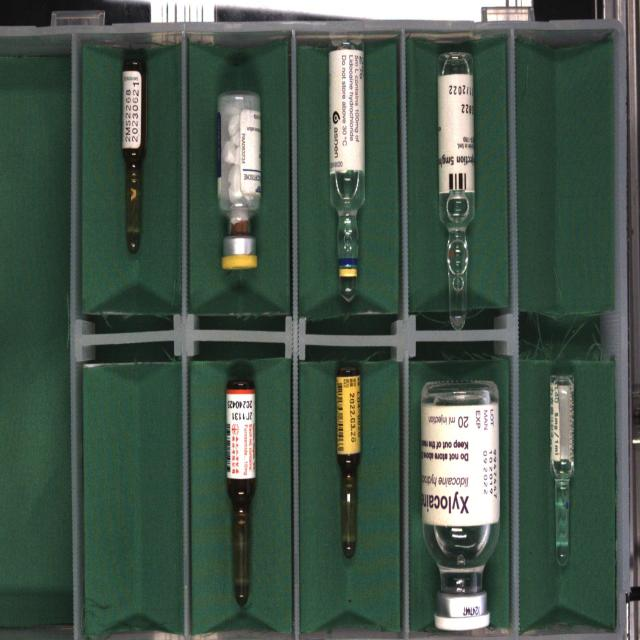Vials: (420, 381, 500, 630), (218, 92, 261, 270)
